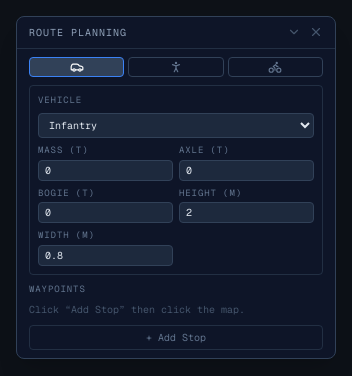
Test case: RoutePanel › switches to Custom preset label when a field is edited
Replace the text in the number field labelled "Mass (t)" with "99" at (106, 170), box x1=38 y1=160 x2=173 y2=180
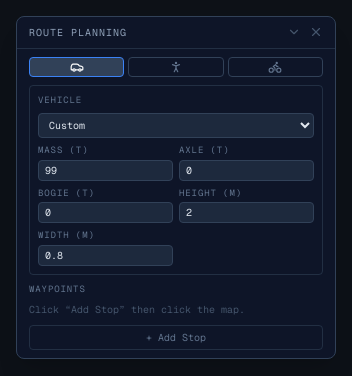
Expected: the dropdown with test id "vehicle-preset-select" shows "Custom", x1=38 y1=113 x2=314 y2=138
